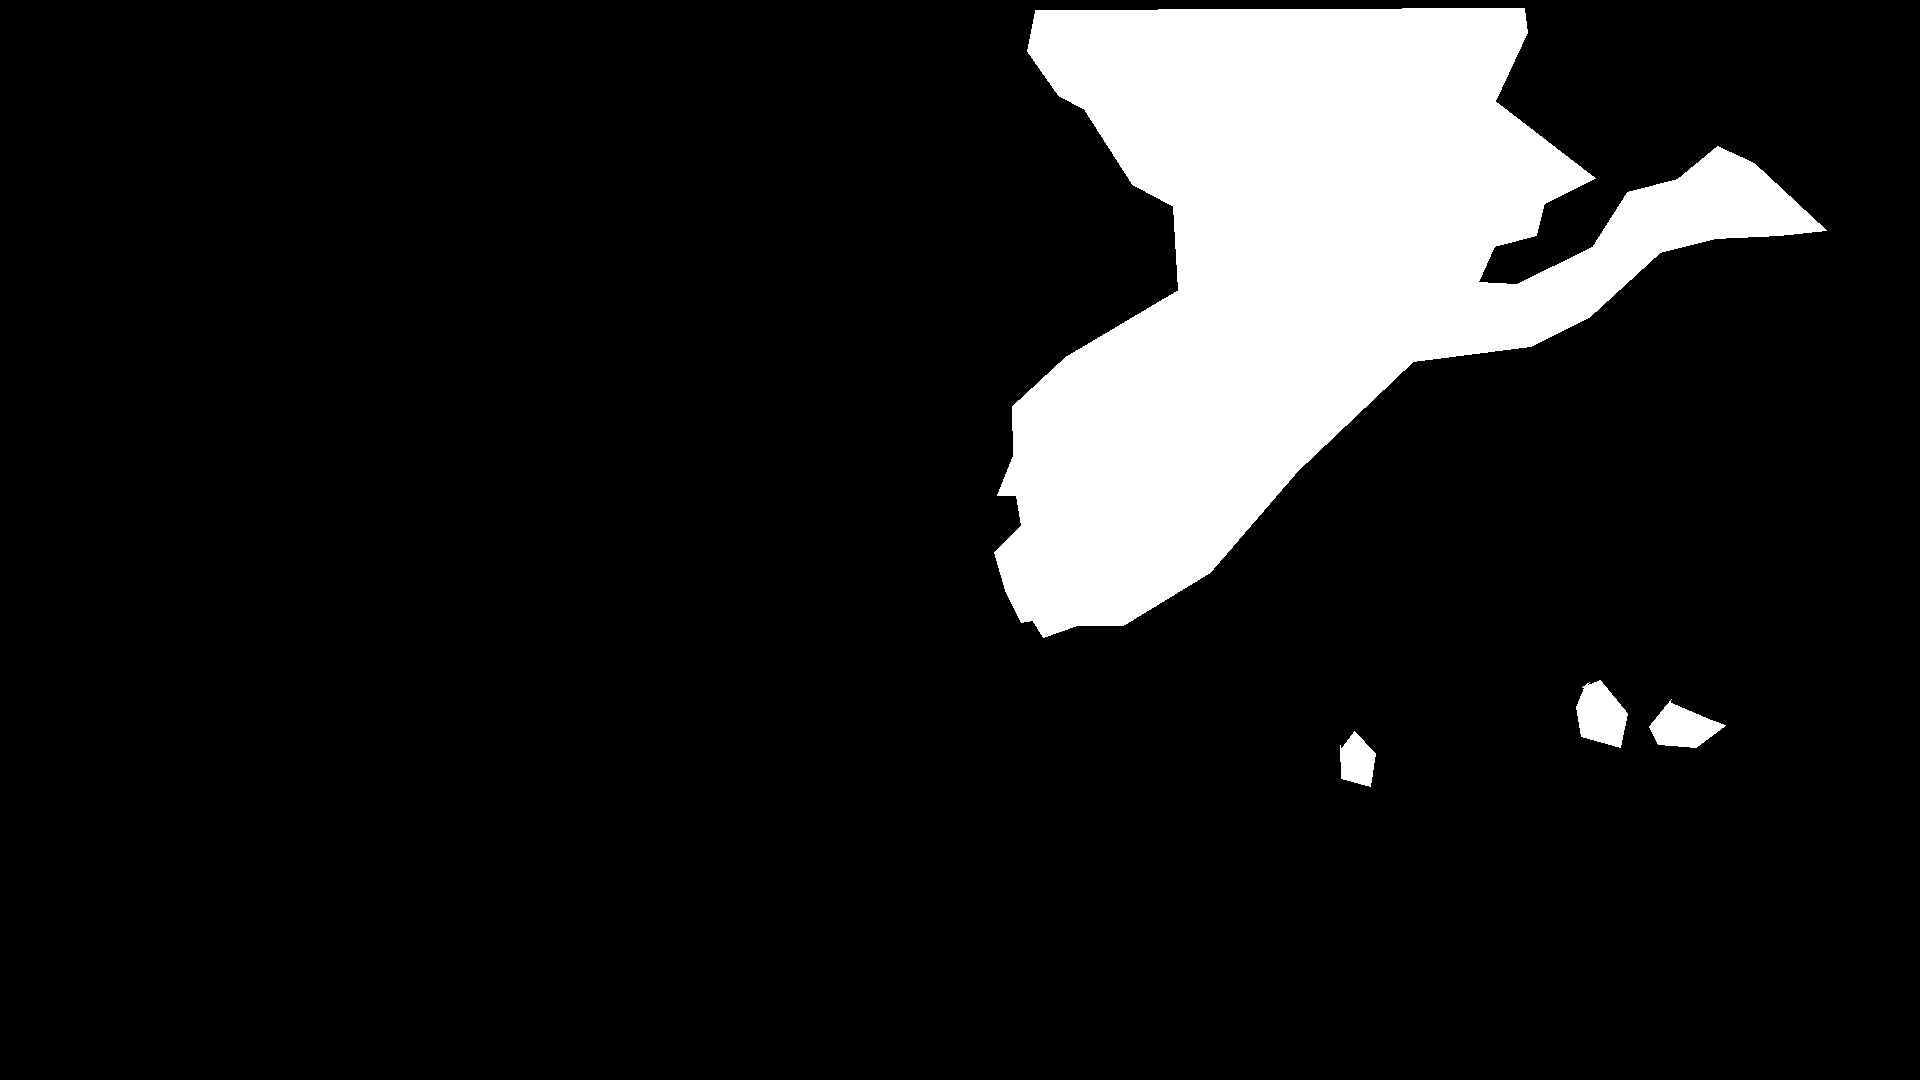Fire: (955, 22, 1627, 645)
